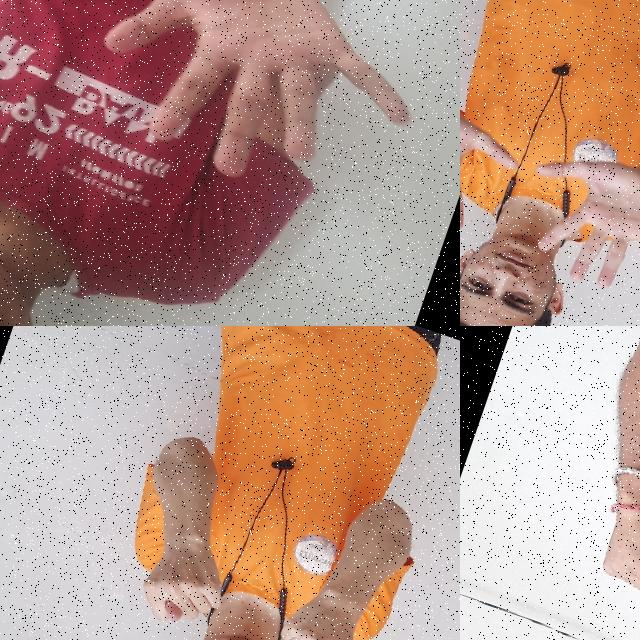Chin Flick: (518, 476, 640, 640)
Dulya: (127, 515, 243, 640), (263, 570, 381, 640)
Moutza: (66, 0, 453, 234), (497, 121, 640, 322), (460, 76, 531, 269)
